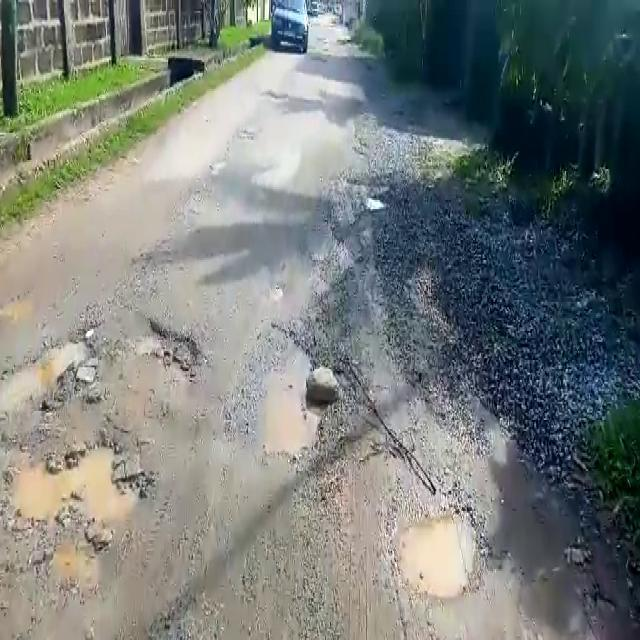pothole: (5, 437, 148, 531), (233, 321, 323, 459), (3, 326, 102, 413), (392, 509, 480, 603), (131, 315, 200, 384)
